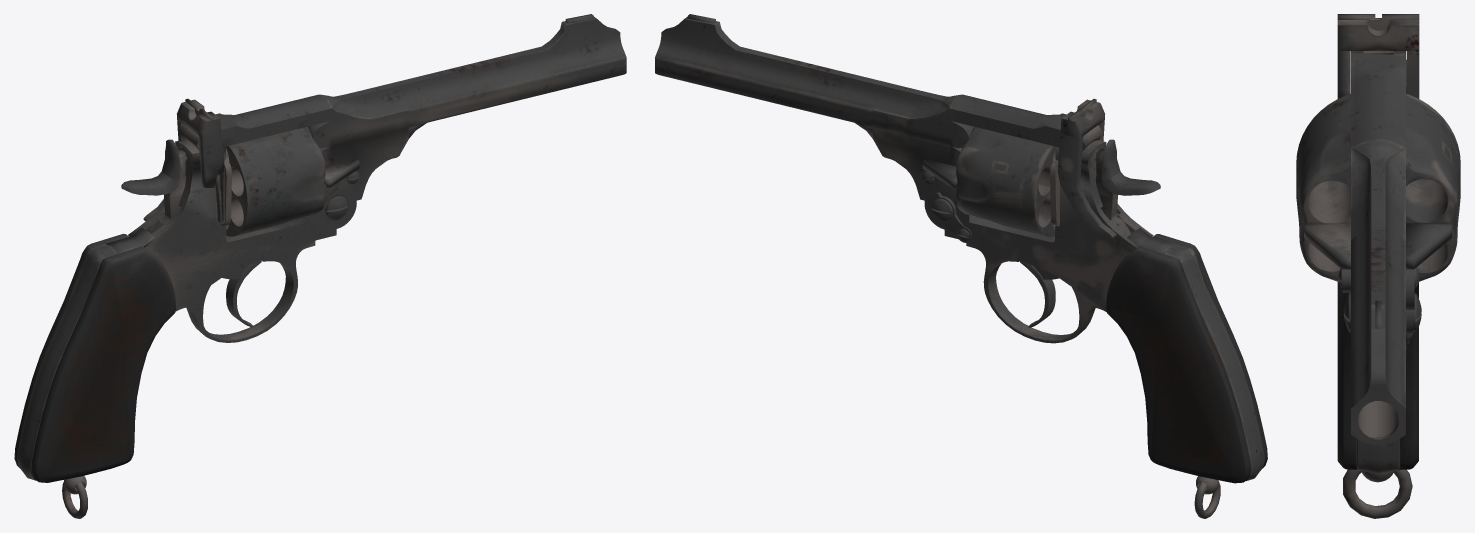
The model's file is webley-mk-vi.glb.
3 renders of one model, left to right at view 1: azimuth 30°, elevation 25°; view 2: azimuth 150°, elevation 25°; view 3: azimuth 270°, elevation 25°, orthographic. The views are drawn at different scales.
Visible parts, largest first — view 1: low_poly_barrel__0, low_poly_handle2__0, low_poly_body__0, low_poly_chamber__0, low_poly_handle3__0, low_poly_triggerroom__0, low_poly_ironsight__0, low_poly_hamer__0, low_poly_handle1__0, low_poly_trigger__0; view 2: low_poly_barrel__0, low_poly_handle1__0, low_poly_body__0, low_poly_chamber__0, low_poly_handle3__0, low_poly_ironsight__0, low_poly_triggerroom__0, low_poly_hamer__0, low_poly_handle2__0, low_poly_trigger__0; view 3: low_poly_barrel__0, low_poly_chamber__0, low_poly_ironsight__0, low_poly_handle2__0, low_poly_handle1__0, low_poly_ring__0, low_poly_wing2__0, low_poly_wing01__0, low_poly_handle3__0, low_poly_safety__0, low_poly_screw1__0, low_poly_sphere__0 (+2 smaller).
Part boxes in pixels (x1,y1,x2,y2): low_poly_barrel__0: [179, 14, 626, 200]; low_poly_handle2__0: [31, 246, 176, 482]; low_poly_body__0: [128, 140, 356, 309]; low_poly_chamber__0: [226, 127, 325, 236]; low_poly_handle3__0: [17, 244, 118, 480]; low_poly_triggerroom__0: [175, 241, 315, 342]; low_poly_ironsight__0: [143, 98, 224, 221]; low_poly_hamer__0: [121, 139, 186, 233]; low_poly_handle1__0: [14, 233, 129, 468]; low_poly_trigger__0: [222, 260, 261, 327]; low_poly_barrel__0: [655, 14, 1102, 200]; low_poly_handle1__0: [1106, 246, 1250, 483]; low_poly_body__0: [924, 140, 1153, 310]; low_poly_chamber__0: [956, 127, 1055, 236]; low_poly_handle3__0: [1164, 244, 1264, 480]; low_poly_ironsight__0: [1057, 99, 1116, 239]; low_poly_triggerroom__0: [966, 242, 1106, 343]; low_poly_hamer__0: [1095, 139, 1160, 234]; low_poly_handle2__0: [1153, 234, 1267, 468]; low_poly_trigger__0: [1020, 260, 1058, 327]; low_poly_barrel__0: [1351, 51, 1405, 445]; low_poly_chamber__0: [1296, 94, 1460, 281]; low_poly_ironsight__0: [1337, 14, 1419, 98]; low_poly_handle2__0: [1337, 282, 1356, 469]; low_poly_handle1__0: [1400, 282, 1418, 469]; low_poly_ring__0: [1343, 469, 1412, 518]; low_poly_wing2__0: [1304, 223, 1350, 269]; low_poly_wing01__0: [1406, 223, 1451, 269]; low_poly_handle3__0: [1357, 439, 1399, 473]; low_poly_safety__0: [1342, 269, 1414, 309]; low_poly_screw1__0: [1413, 293, 1421, 331]; low_poly_sphere__0: [1362, 471, 1393, 482].
Bounding box in the file's own units: 0.2791 × 0.1694 × 0.0421.
1 material, 1 textured.
